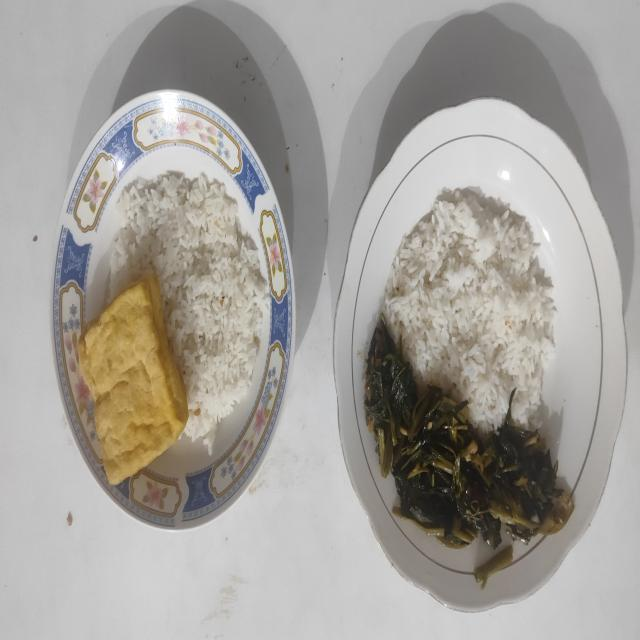nasi_putih: (110, 170, 268, 450), (383, 187, 556, 433)
tahu_goreng: (78, 276, 188, 484)
tumis_kangkung: (364, 314, 574, 550)
